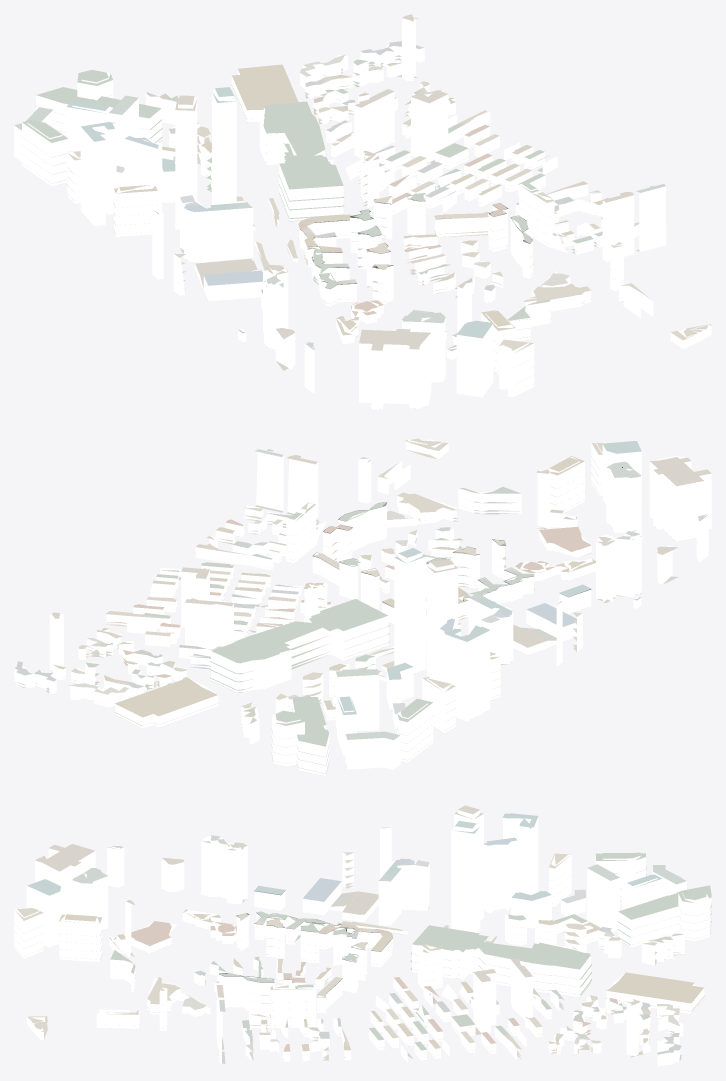
File: buildings--11_-4-coarse.glb
3 renders of one model, top to bottom at view 1: azimuth 30°, elevation 25°; view 2: azimuth 150°, elevation 25°; view 3: azimuth 270°, elevation 25°, orthographic. The views are drawn at different scales.
Parts seen in each view (by area): view 1: block_-11_-4_residential, block_-11_-4_office, block_-11_-4_roof; view 2: block_-11_-4_residential, block_-11_-4_office, block_-11_-4_roof; view 3: block_-11_-4_residential, block_-11_-4_office, block_-11_-4_roof, block_-11_-4_concrete.
Boxes of the visible parts, box(x1,y1,x2,y2) form: block_-11_-4_residential: box(22, 44, 711, 396); block_-11_-4_office: box(14, 16, 666, 409); block_-11_-4_roof: box(14, 14, 711, 409); block_-11_-4_residential: box(14, 438, 641, 776); block_-11_-4_office: box(49, 445, 711, 769); block_-11_-4_roof: box(14, 438, 711, 775); block_-11_-4_residential: box(14, 852, 711, 1066); block_-11_-4_office: box(26, 810, 686, 1063); block_-11_-4_roof: box(15, 805, 711, 1063); block_-11_-4_concrete: box(219, 912, 392, 997).
Size of the model in its own units: 405 by 116 by 659.
